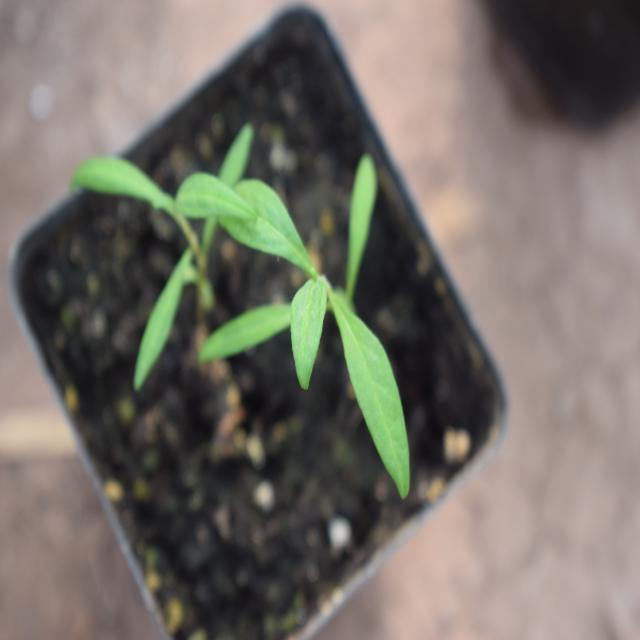white_smart_weed: (198, 132, 444, 499)
